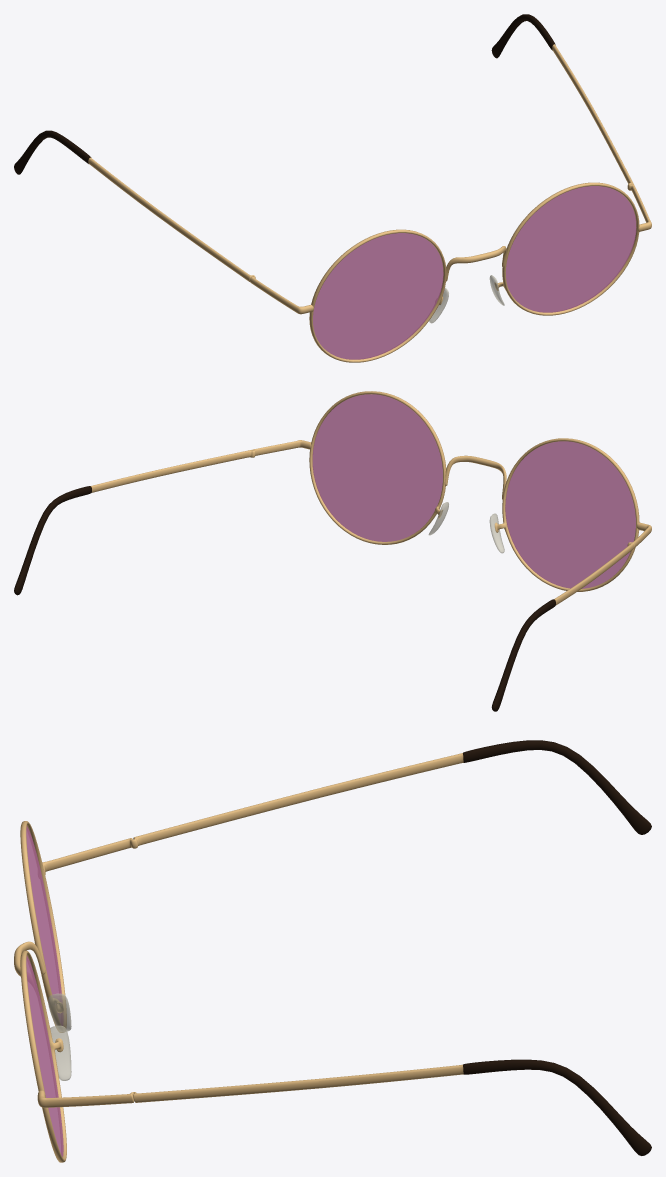
The model's file is glasses_round.glb.
3 views of the same model, one above another, from view 1: azimuth 30°, elevation 25°; view 2: azimuth 150°, elevation 25°; view 3: azimuth 270°, elevation 25° (orthographic). The views are drawn at different scales.
Parts seen in each view (by area): view 1: Sketchfab_model; view 2: Sketchfab_model; view 3: Sketchfab_model.
Part boxes in pixels (x1,y1,x2,y2): Sketchfab_model: (14,14,651,362); Sketchfab_model: (14,391,651,711); Sketchfab_model: (14,740,651,1162).
Size of the model in its own units: 4.21 by 1.16 by 3.5.
